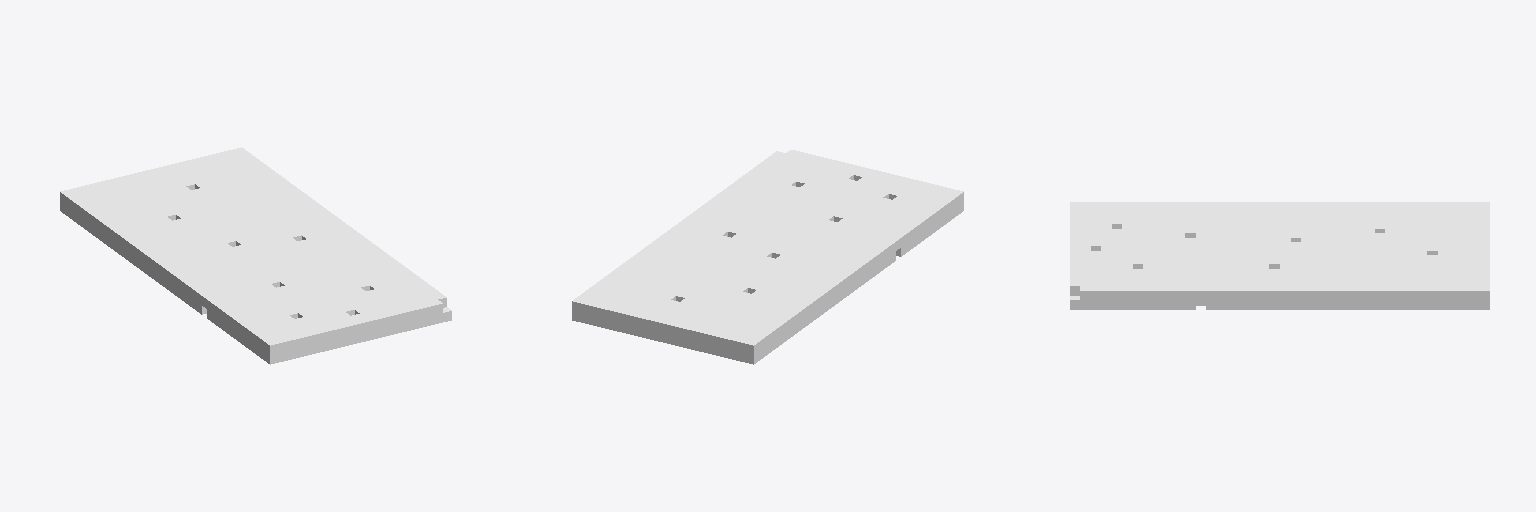
File: MiddleRoadThing2.obj
3 views of the same model, side by side, from view 1: azimuth 30°, elevation 25°; view 2: azimuth 150°, elevation 25°; view 3: azimuth 270°, elevation 25° (orthographic).
Bounding box in the file's own units: 20 × 2 × 40.